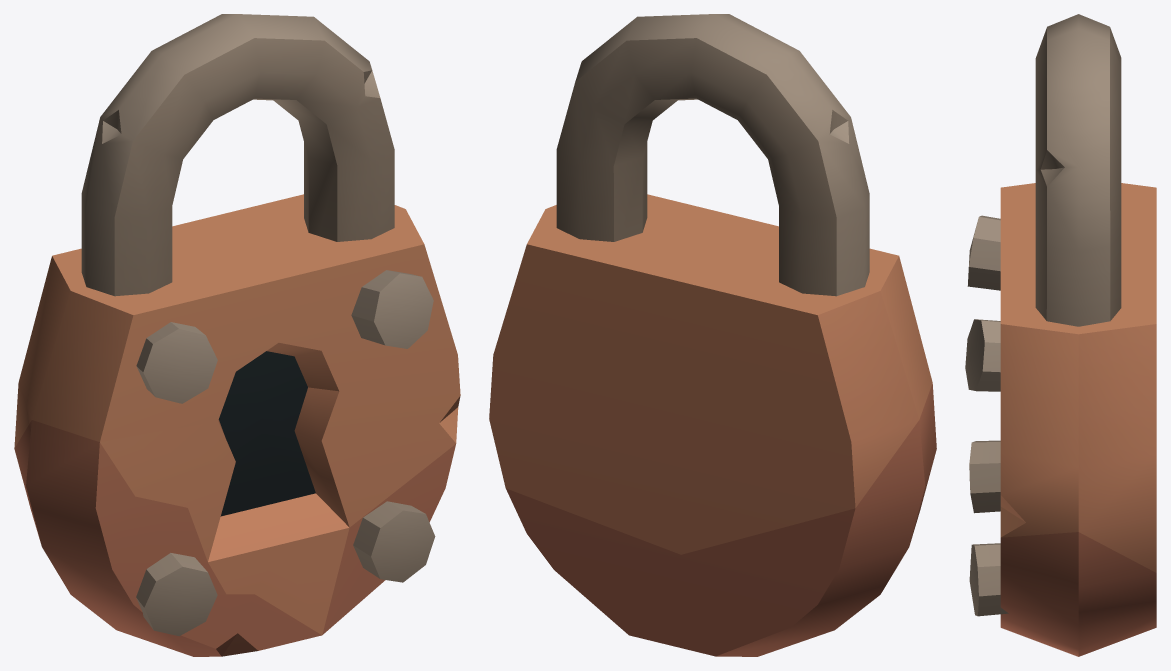
File: lock_A.fbx
3 views of the same model, side by side, from view 1: azimuth 30°, elevation 25°; view 2: azimuth 150°, elevation 25°; view 3: azimuth 270°, elevation 25° (orthographic). The views are drawn at different scales.
Visible parts, largest first — view 1: lock_A, lock_A_part; view 2: lock_A, lock_A_part; view 3: lock_A, lock_A_part.
Boxes of the visible parts, bbox=[...] form: lock_A: bbox=[14, 194, 460, 656]; lock_A_part: bbox=[81, 14, 394, 296]; lock_A: bbox=[489, 194, 936, 656]; lock_A_part: bbox=[556, 14, 869, 296]; lock_A: bbox=[965, 183, 1156, 656]; lock_A_part: bbox=[1035, 14, 1121, 326].
Bounding box in the file's own units: 59.63 × 84.85 × 24.26.
